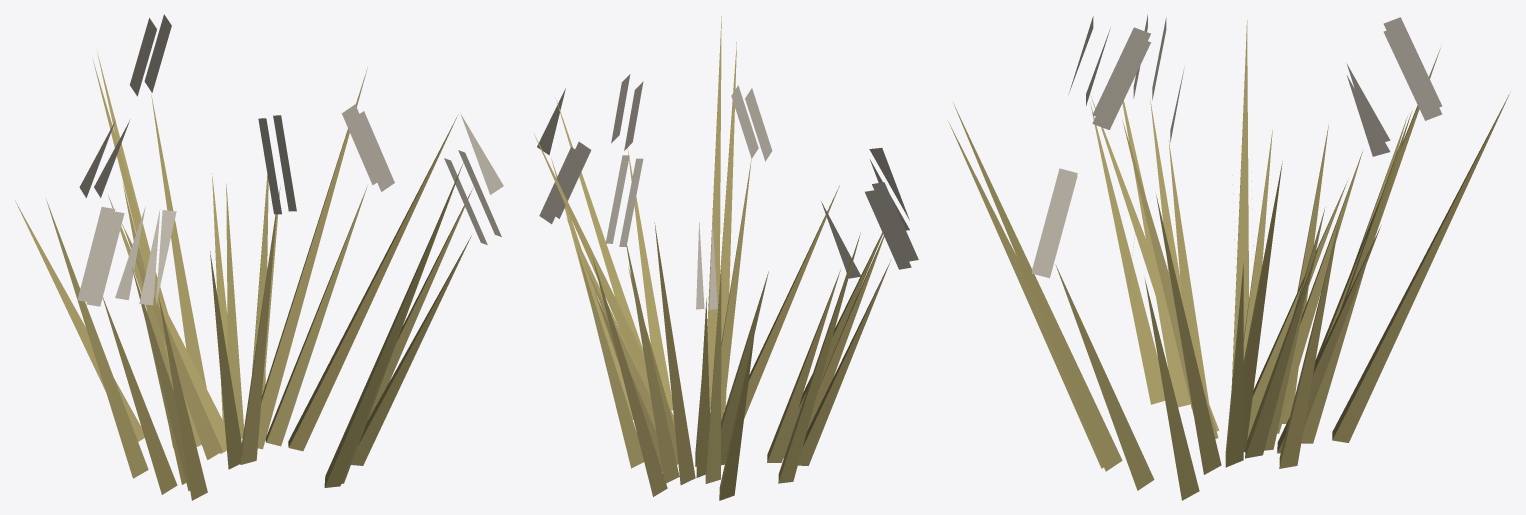
Rendered from nature_silvergrass_a_lod1.glb.
The picture shows the model from 3 angles, left to right: view 1: azimuth 30°, elevation 25°; view 2: azimuth 150°, elevation 25°; view 3: azimuth 270°, elevation 25°; orthographic projection. The views are drawn at different scales.
Parts seen in each view (by area): view 1: nature_silvergrass_a_lod1; view 2: nature_silvergrass_a_lod1; view 3: nature_silvergrass_a_lod1.
Part boxes in pixels (<box>): nature_silvergrass_a_lod1: <box>15,14,503,500</box>; nature_silvergrass_a_lod1: <box>534,16,918,500</box>; nature_silvergrass_a_lod1: <box>948,14,1510,500</box>.
Size of the model in its own units: 1.97 by 1.74 by 2.1.
